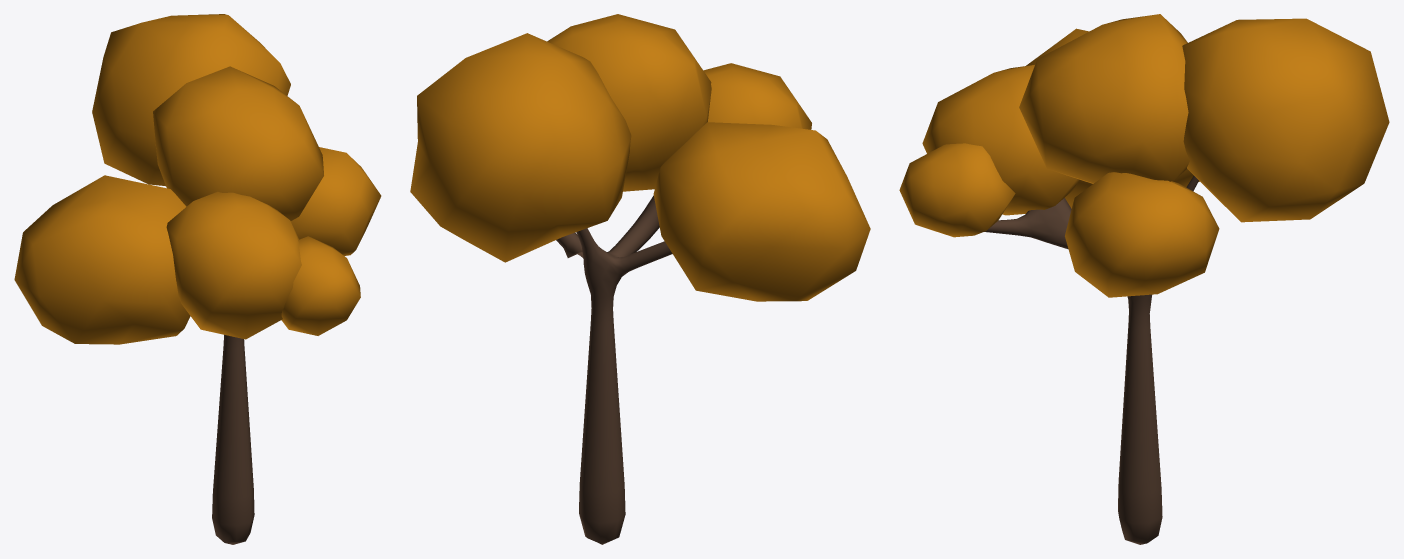
Rendered from tree2.fbx.
3 renders of one model, left to right at view 1: azimuth 30°, elevation 25°; view 2: azimuth 150°, elevation 25°; view 3: azimuth 270°, elevation 25°, orthographic. The views are drawn at different scales.
Visible parts, largest first — view 1: Icosphere.002; view 2: Icosphere.002; view 3: Icosphere.002.
Boxes of the visible parts, x1=… form: Icosphere.002: x1=14, y1=14, x2=381, y2=544; Icosphere.002: x1=410, y1=14, x2=870, y2=544; Icosphere.002: x1=899, y1=14, x2=1389, y2=544.
Bounding box in the file's own units: 3.71 × 4.75 × 4.
